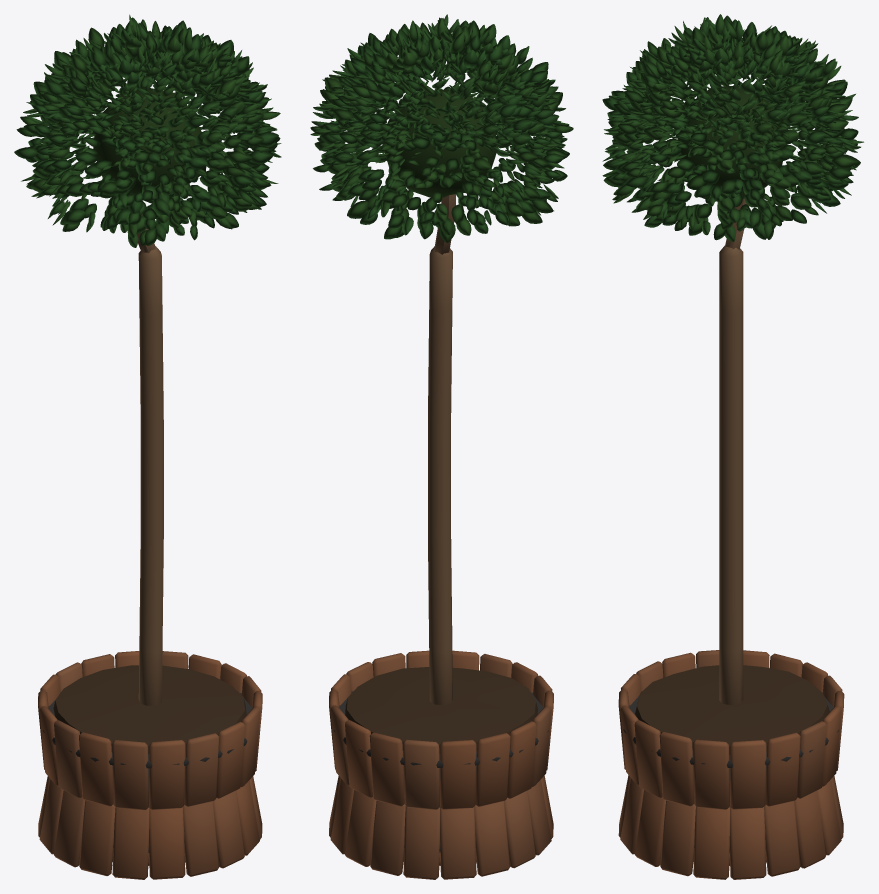
File: tubtree_bay.glb
3 renders of one model, left to right at view 1: azimuth 30°, elevation 25°; view 2: azimuth 150°, elevation 25°; view 3: azimuth 270°, elevation 25°, orthographic.
Parts seen in each view (by area): view 1: Sammel Holz, Sammel Pflanze, Sammel Putz, Sammel Blatt, Sammel Metall; view 2: Sammel Holz, Sammel Pflanze, Sammel Putz, Sammel Blatt, Sammel Metall; view 3: Sammel Holz, Sammel Pflanze, Sammel Putz, Sammel Blatt, Sammel Metall.
Part boxes in pixels (bbox=[...]): Sammel Holz: bbox=[38, 214, 262, 879]; Sammel Pflanze: bbox=[14, 14, 281, 247]; Sammel Putz: bbox=[53, 665, 246, 754]; Sammel Blatt: bbox=[93, 86, 206, 203]; Sammel Metall: bbox=[42, 692, 257, 852]; Sammel Holz: bbox=[329, 194, 553, 879]; Sammel Pflanze: bbox=[310, 14, 573, 242]; Sammel Putz: bbox=[345, 667, 537, 753]; Sammel Blatt: bbox=[382, 89, 497, 197]; Sammel Metall: bbox=[333, 691, 548, 852]; Sammel Holz: bbox=[618, 198, 844, 879]; Sammel Pflanze: bbox=[602, 14, 863, 241]; Sammel Putz: bbox=[635, 665, 829, 754]; Sammel Blatt: bbox=[678, 85, 785, 198]; Sammel Metall: bbox=[623, 691, 838, 852].
Bounding box in the file's own units: 0.8796 × 2.95 × 0.8731.
